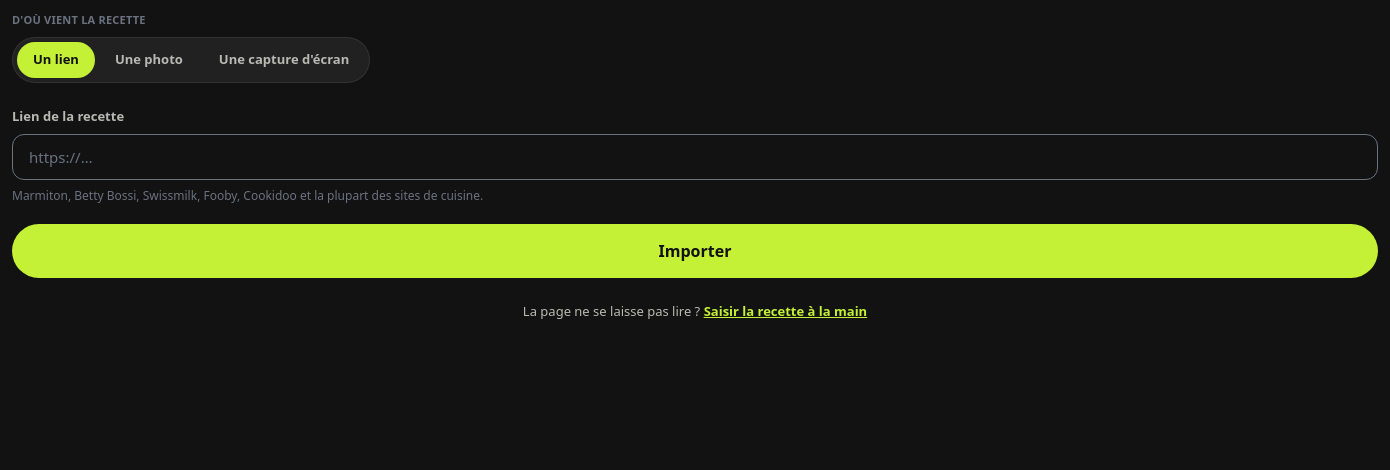
Test: ImportForm › refuses to send nothing
This screenshot has width=1390, height=470.
Click the button with test id "source-PHOTO".
click(149, 60)  # box [99, 42, 199, 78]
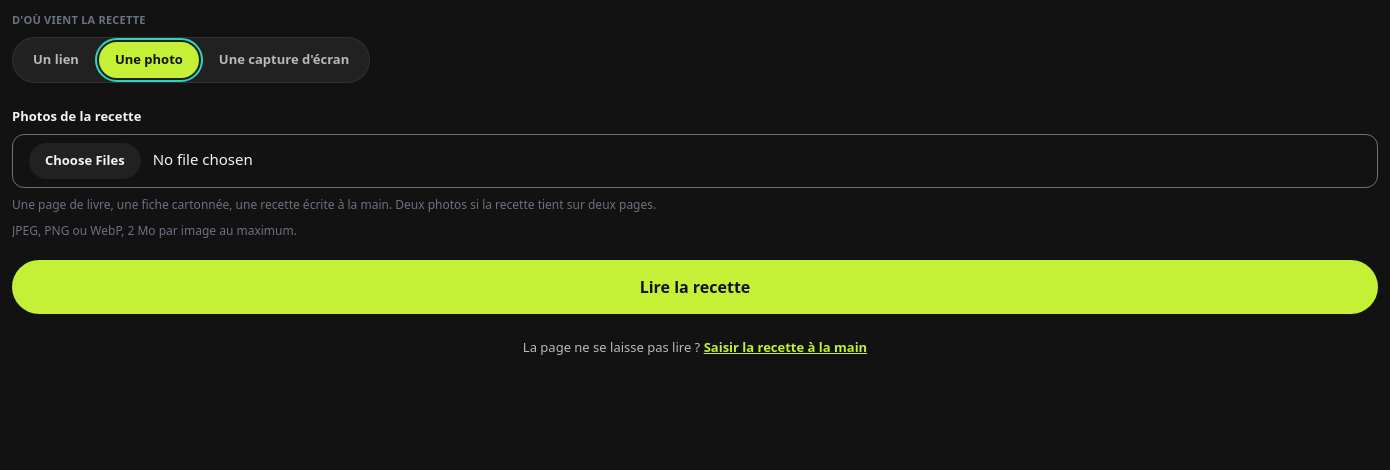
Click the button "Lire la recette".
click(695, 286)  # box [12, 260, 1378, 314]
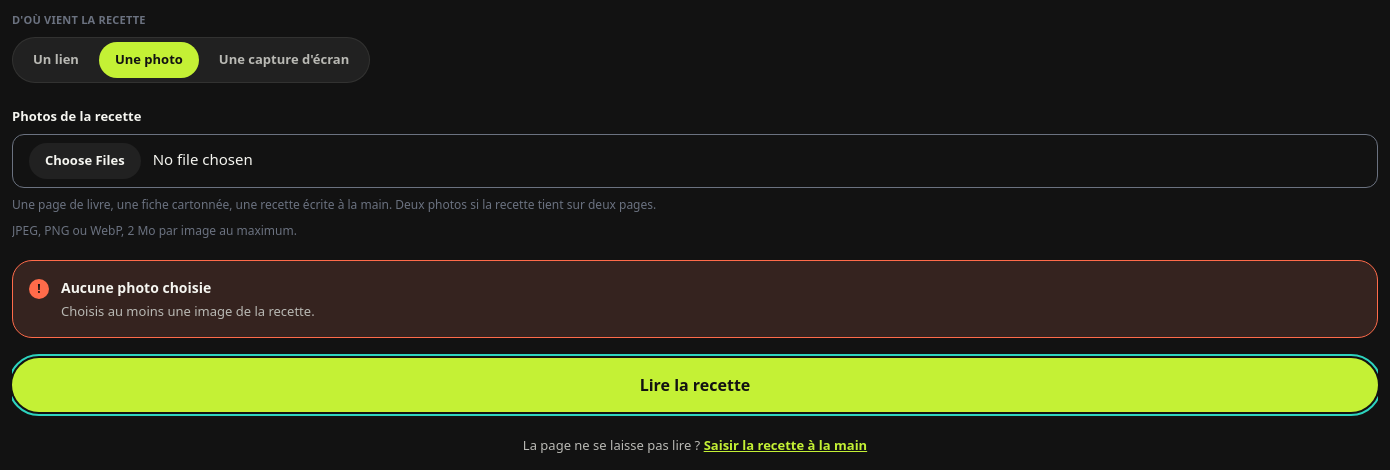
Result: the message with test id "import-error" shows "Aucune photo choisie" at [61, 278, 211, 296]
